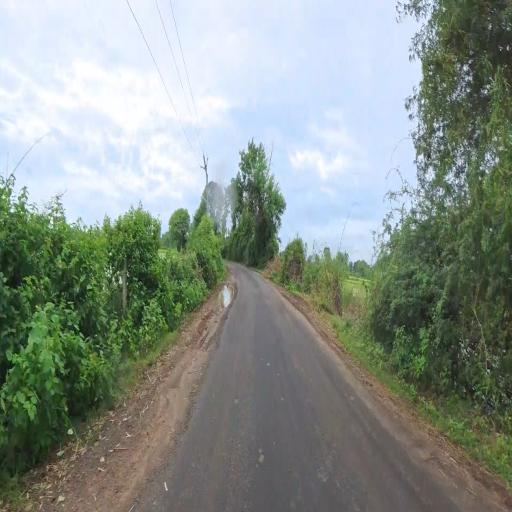edge_damage: (125, 334, 232, 500)
